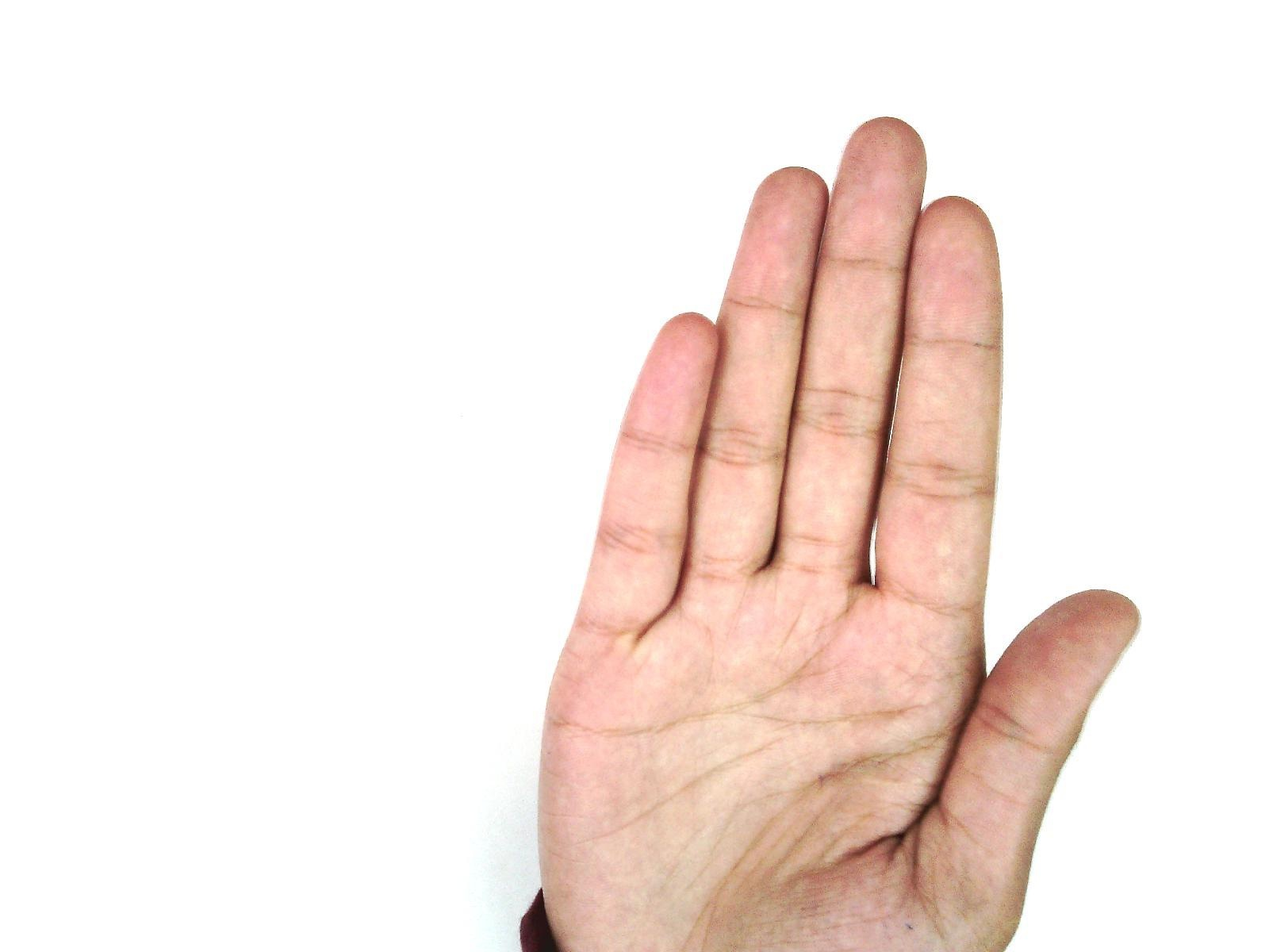open_palm: (526, 116, 1144, 952)
